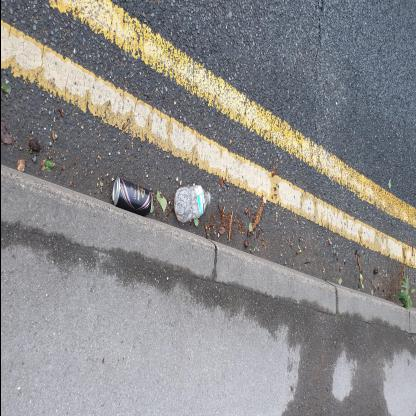metal: (111, 176, 152, 218)
plastik: (173, 185, 210, 223)
